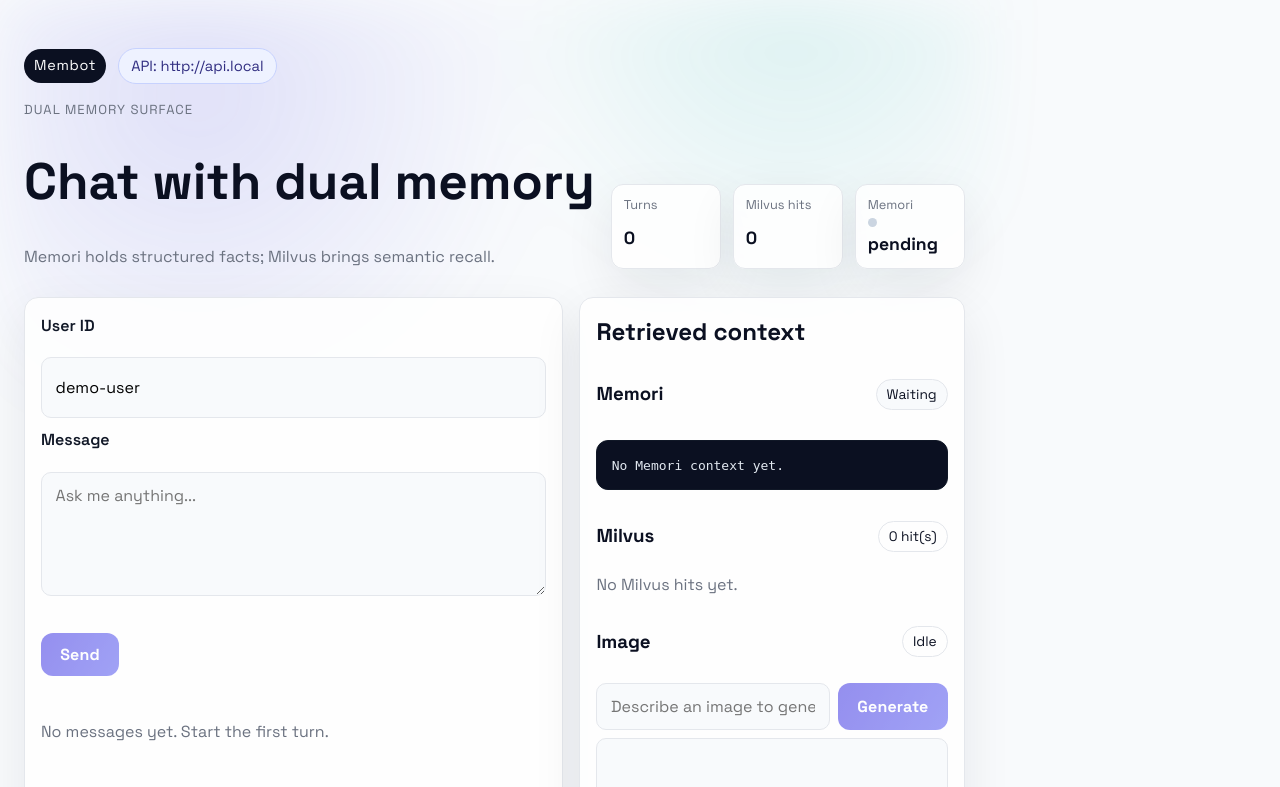
Test case: App chat flow › shows error when request fails
In the text box labelled "Message": (294, 534) top-left (41, 472), bottom-right (546, 596), type "test"
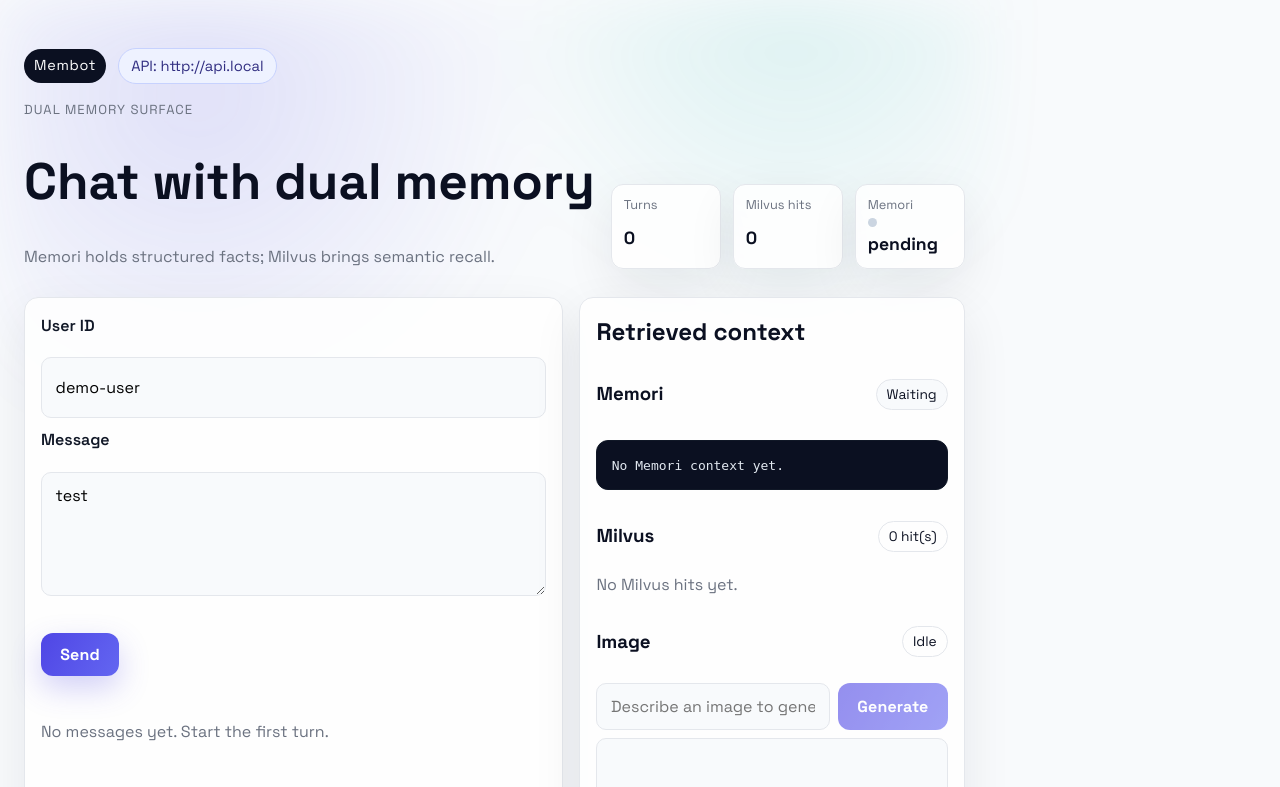
Click the button "Send": (80, 655) top-left (41, 633), bottom-right (119, 676)
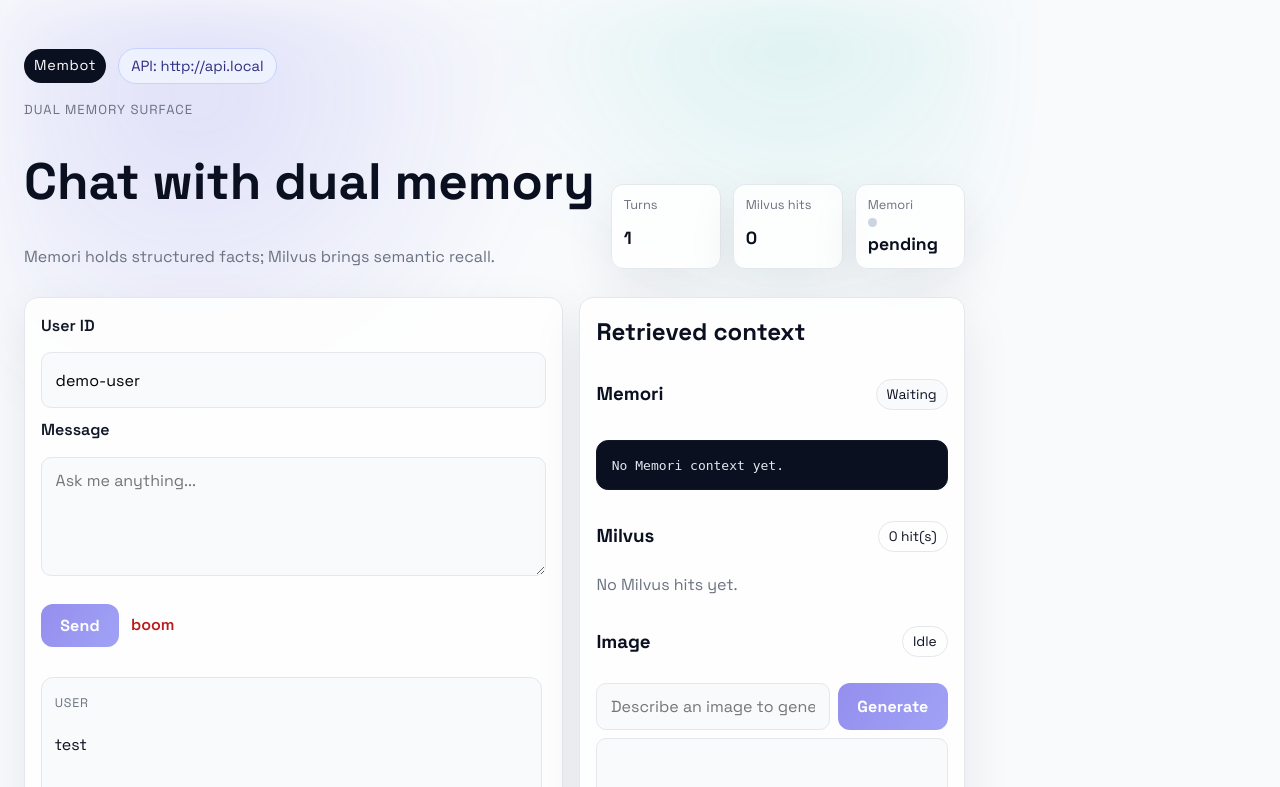
Expected: the message "boom" is shown, top-left (131, 613), bottom-right (174, 637)
Expected: the message reads "boom", top-left (131, 614), bottom-right (174, 635)
